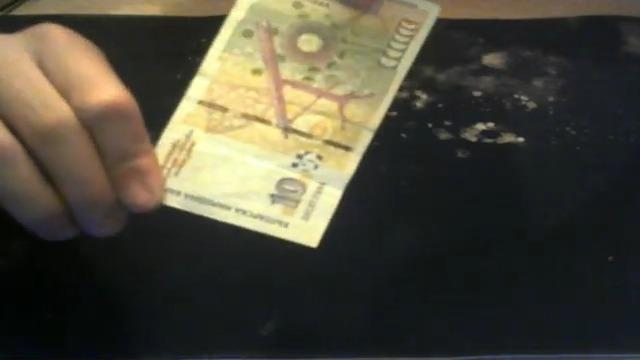10leva: (153, 0, 440, 249)
